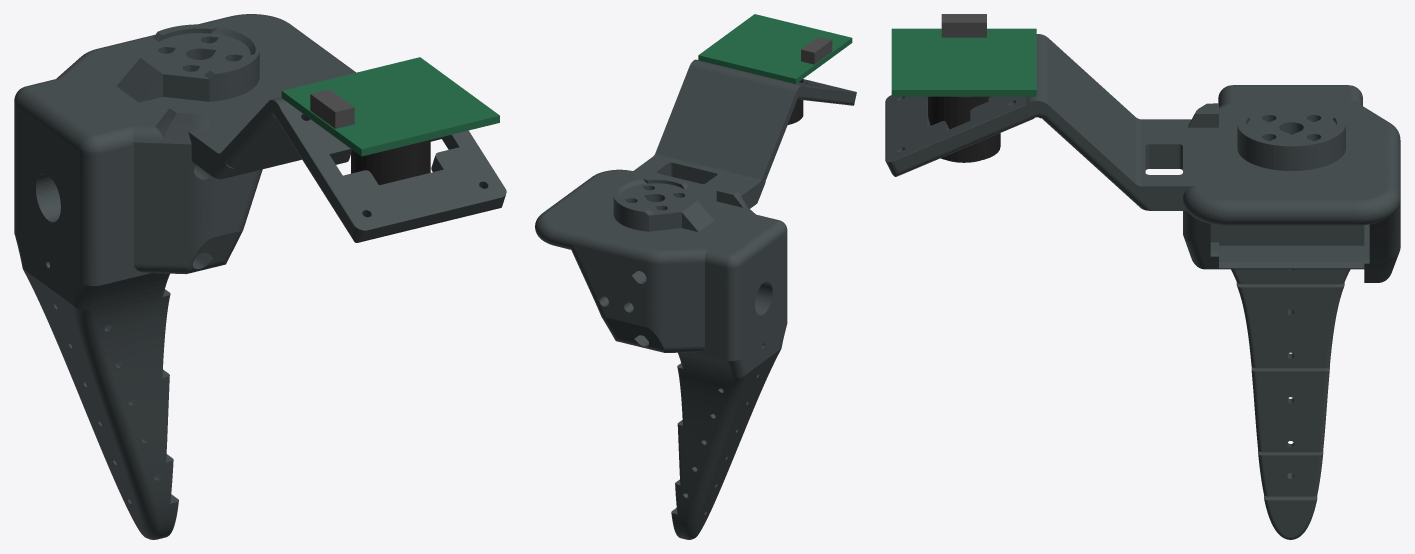
The model's file is camera-wrist-so101-v8.glb.
3 renders of one model, left to right at view 1: azimuth 30°, elevation 25°; view 2: azimuth 150°, elevation 25°; view 3: azimuth 270°, elevation 25°, orthographic. The views are drawn at different scales.
Parts seen in each view (by area): view 1: SO101_32x32_integrated_wrist_camera_mount_camera_export, UVC_32x32_PCB_camera_export, UVC_M12_barrel_camera_export, UVC_header_camera_export; view 2: SO101_32x32_integrated_wrist_camera_mount_camera_export, UVC_32x32_PCB_camera_export, UVC_header_camera_export; view 3: SO101_32x32_integrated_wrist_camera_mount_camera_export, UVC_32x32_PCB_camera_export, UVC_M12_barrel_camera_export, UVC_header_camera_export.
Part boxes in pixels (x1=…): SO101_32x32_integrated_wrist_camera_mount_camera_export: x1=14, y1=14, x2=506, y2=539; UVC_32x32_PCB_camera_export: x1=281, y1=57, x2=499, y2=156; UVC_M12_barrel_camera_export: x1=351, y1=140, x2=430, y2=185; UVC_header_camera_export: x1=310, y1=89, x2=354, y2=128; SO101_32x32_integrated_wrist_camera_mount_camera_export: x1=535, y1=59, x2=856, y2=539; UVC_32x32_PCB_camera_export: x1=698, y1=14, x2=852, y2=83; UVC_header_camera_export: x1=801, y1=36, x2=832, y2=64; SO101_32x32_integrated_wrist_camera_mount_camera_export: x1=885, y1=34, x2=1400, y2=539; UVC_32x32_PCB_camera_export: x1=891, y1=28, x2=1036, y2=96; UVC_M12_barrel_camera_export: x1=928, y1=96, x2=1000, y2=162; UVC_header_camera_export: x1=941, y1=14, x2=986, y2=37.
Size of the model in its own units: 0.0652 by 0.1259 by 0.1136.
